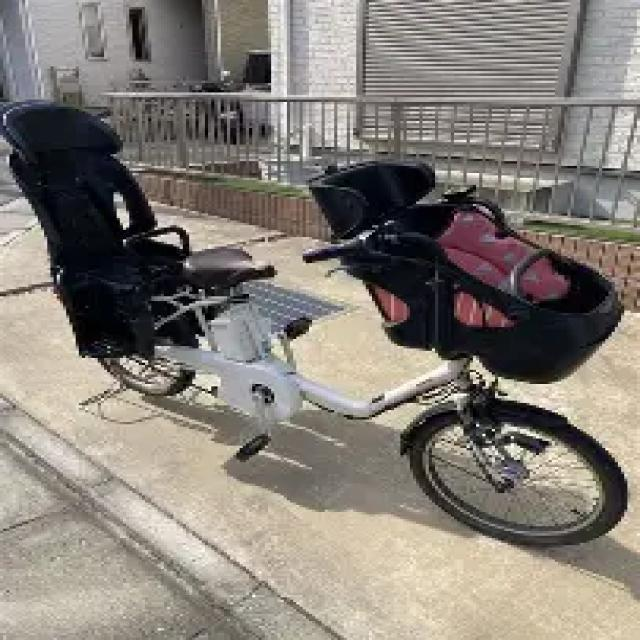battery: (212, 311, 264, 367)
childseat: (306, 160, 626, 384), (0, 101, 210, 361)
